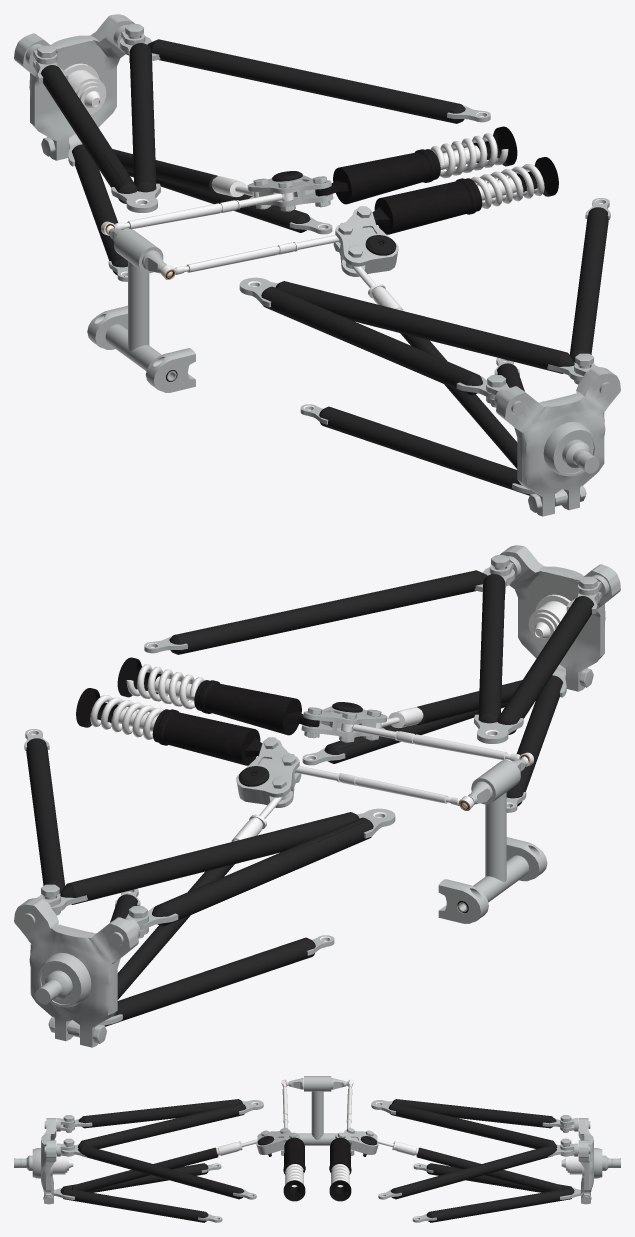
File: suspension.glb
The picture shows the model from 3 angles, top to bottom: view 1: azimuth 30°, elevation 25°; view 2: azimuth 150°, elevation 25°; view 3: azimuth 270°, elevation 25°; orthographic projection. The views are drawn at different scales.
Visible parts, largest first — view 1: Circle.009, Cylinder.011, Cube.003, Cylinder.012, Cylinder.008, Cube.004; view 2: Circle.009, Cylinder.011, Cube.004, Cylinder.012, Cylinder.008, Cube.003; view 3: Circle.009, Cylinder.011, Cylinder.008, Cylinder.012, Cylinder.010.
Boxes of the visible parts, x1,y1,x2,y2 form: Circle.009: (14, 14, 620, 516); Cylinder.011: (128, 261, 149, 350); Cube.003: (145, 348, 195, 392); Cylinder.012: (105, 324, 176, 381); Cylinder.008: (114, 228, 163, 273); Cube.004: (87, 305, 127, 349); Circle.009: (14, 545, 620, 1047); Cylinder.011: (485, 792, 506, 881); Cube.004: (438, 879, 488, 923); Cylinder.012: (458, 855, 528, 912); Cylinder.008: (471, 760, 520, 804); Cube.003: (506, 837, 547, 881); Circle.009: (14, 1079, 620, 1222); Cylinder.011: (311, 1091, 323, 1139); Cylinder.008: (304, 1076, 331, 1091); Cylinder.012: (296, 1133, 338, 1145); Cylinder.010: (287, 1078, 347, 1089).
Size of the model in its own units: 125 by 38.08 by 277.
6 materials, 5 textured.
